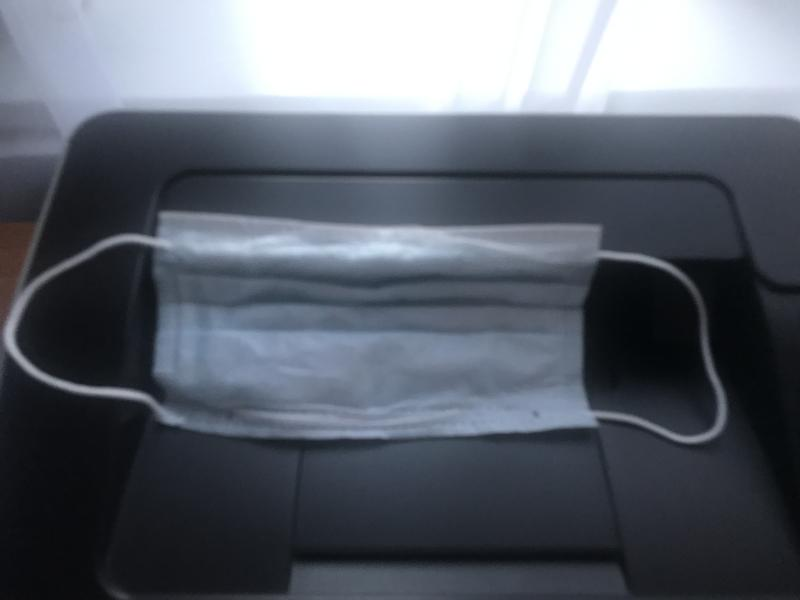medical_mask: (4, 211, 728, 449)
